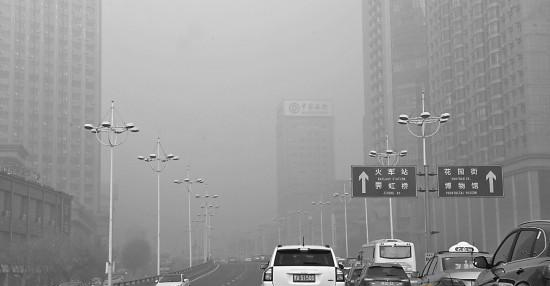bus: (357, 236, 416, 282)
car: (473, 216, 550, 286), (408, 238, 491, 286), (258, 241, 345, 286), (356, 261, 410, 286), (151, 270, 191, 285)
